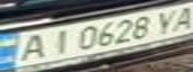0: (75, 22, 100, 52)
2: (115, 16, 139, 45)
6: (97, 19, 118, 48)
8: (130, 12, 157, 41)
A: (9, 31, 54, 64), (166, 2, 193, 33)
I: (39, 26, 75, 56)
Y: (148, 8, 184, 35)
